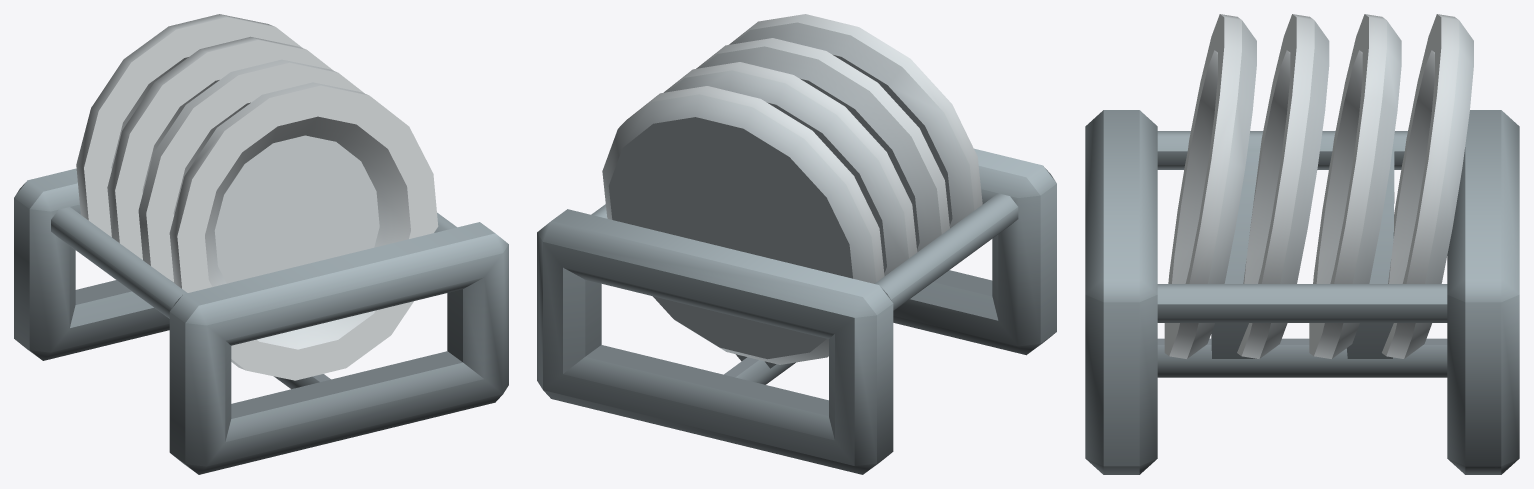
File: kay-dishrack_plates.glb
The picture shows the model from 3 angles, left to right: view 1: azimuth 30°, elevation 25°; view 2: azimuth 150°, elevation 25°; view 3: azimuth 270°, elevation 25°; orthographic projection. The views are drawn at different scales.
Parts seen in each view (by area): view 1: dishrack_plates; view 2: dishrack_plates; view 3: dishrack_plates.
Part boxes in pixels (x1,y1,x2,y2): dishrack_plates: [14, 14, 508, 474]; dishrack_plates: [537, 14, 1056, 474]; dishrack_plates: [1085, 14, 1519, 474].
Bounding box in the file's own units: 0.22 × 0.2008 × 0.22.
Materials: 1 (1 with a texture image).
